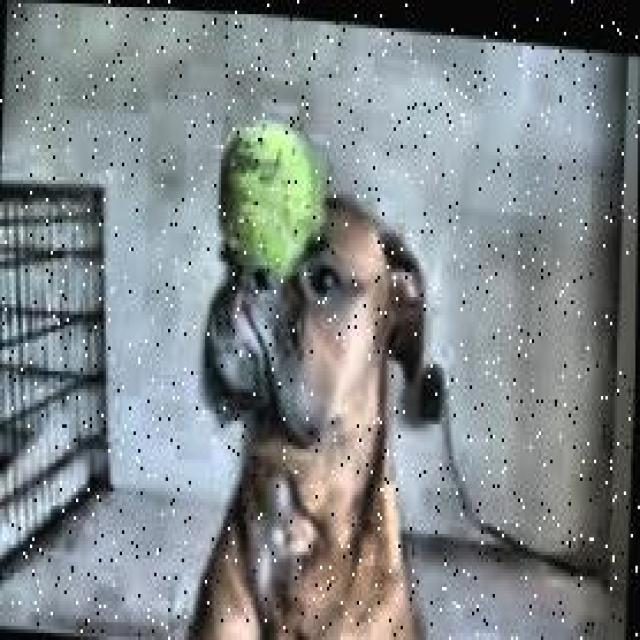tennis-ball: (220, 112, 326, 271)
